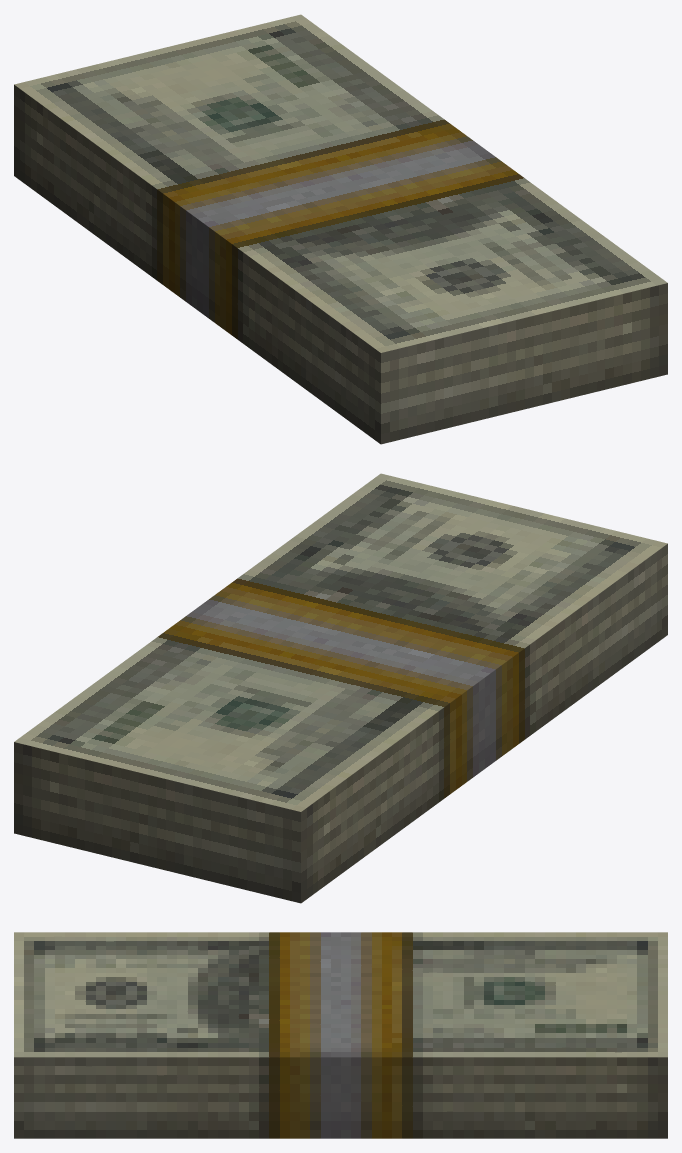
The model's file is cash_2.obj.
3 views of the same model, one above another, from view 1: azimuth 30°, elevation 25°; view 2: azimuth 150°, elevation 25°; view 3: azimuth 270°, elevation 25° (orthographic). The views are drawn at different scales.
Visible parts, largest first — view 1: cash_2; view 2: cash_2; view 3: cash_2.
Part boxes in pixels (bbox=[...]): cash_2: bbox=[14, 14, 667, 444]; cash_2: bbox=[14, 473, 667, 903]; cash_2: bbox=[14, 932, 667, 1138].
Size of the model in its own units: 0.1288 by 0.0392 by 0.2851.
